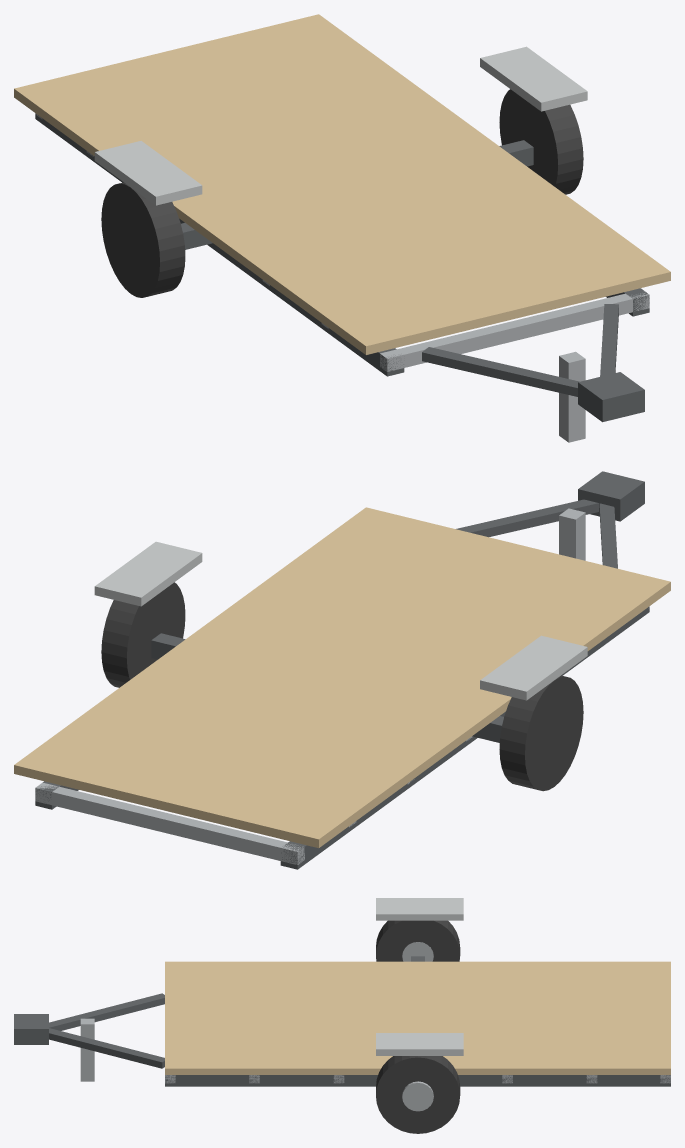
File: foundation-base.dae
3 views of the same model, one above another, from view 1: azimuth 30°, elevation 25°; view 2: azimuth 150°, elevation 25°; view 3: azimuth 270°, elevation 25° (orthographic). The views are drawn at different scales.
Visible parts, largest first — view 1: 6x12 plywood trailer deck, left trailer wheel.004, right trailer wheel.004, steel crossmember y=0.004, left simple metal fender.004, right simple metal fender.004, left A-frame hitch rail.004, off-the-shelf hitch coupler.004, left steel frame rail.004, simple jack stand.004, right A-frame hitch rail.004, single axle bar.004; view 2: 6x12 plywood trailer deck, left trailer wheel.004, steel crossmember y=141.004, right trailer wheel.004, right simple metal fender.004, left simple metal fender.004, off-the-shelf hitch coupler.004, left steel frame rail.004, right A-frame hitch rail.004, simple jack stand.004, single axle bar.004, left A-frame hitch rail.004; view 3: 6x12 plywood trailer deck, right steel frame rail.004, right trailer wheel.004, left trailer wheel.004, right simple metal fender.004, left simple metal fender.004, right A-frame hitch rail.004, left A-frame hitch rail.004, off-the-shelf hitch coupler.004, simple jack stand.004, right trailer wheel galvanized hub.004, left trailer wheel galvanized hub.004.
Part boxes in pixels (x1,y1,x2,y2): 6x12 plywood trailer deck: (14, 14, 670, 354); left trailer wheel.004: (101, 182, 185, 297); right trailer wheel.004: (499, 89, 583, 194); steel crossmember y=0.004: (380, 291, 649, 371); left simple metal fender.004: (94, 141, 202, 205); right simple metal fender.004: (480, 46, 587, 111); left A-frame hitch rail.004: (422, 347, 579, 396); off-the-shelf hitch coupler.004: (578, 372, 644, 422); left steel frame rail.004: (35, 114, 404, 376); simple jack stand.004: (559, 351, 585, 442); right A-frame hitch rail.004: (600, 304, 618, 376); single axle bar.004: (181, 140, 533, 249); 6x12 plywood trailer deck: (14, 507, 670, 848); left trailer wheel.004: (499, 675, 583, 791); steel crossmember y=141.004: (35, 782, 304, 864); right trailer wheel.004: (101, 582, 185, 687); right simple metal fender.004: (94, 541, 202, 606); left simple metal fender.004: (480, 635, 587, 700); off-the-shelf hitch coupler.004: (578, 471, 644, 521); left steel frame rail.004: (280, 607, 649, 869); right A-frame hitch rail.004: (456, 499, 598, 537); simple jack stand.004: (559, 508, 585, 560); single axle bar.004: (151, 633, 503, 742); left A-frame hitch rail.004: (599, 503, 617, 568); 6x12 plywood trailer deck: (165, 961, 670, 1074); right steel frame rail.004: (165, 1075, 670, 1086); right trailer wheel.004: (376, 1056, 460, 1133); left trailer wheel.004: (376, 920, 460, 961); right simple metal fender.004: (376, 1033, 463, 1055); left simple metal fender.004: (376, 898, 463, 920); right A-frame hitch rail.004: (49, 1028, 164, 1068); left A-frame hitch rail.004: (49, 993, 164, 1030); off-the-shelf hitch coupler.004: (14, 1014, 48, 1044); simple jack stand.004: (80, 1018, 94, 1081); right trailer wheel galvanized hub.004: (402, 1081, 433, 1111); left trailer wheel galvanized hub.004: (402, 942, 433, 961).
Size of the model in its own units: 2.59 by 4.75 by 0.8382.
